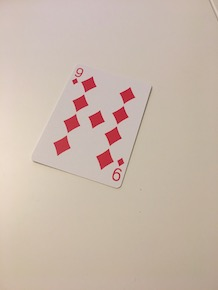NineOfDiamonds: (32, 62, 155, 189)
